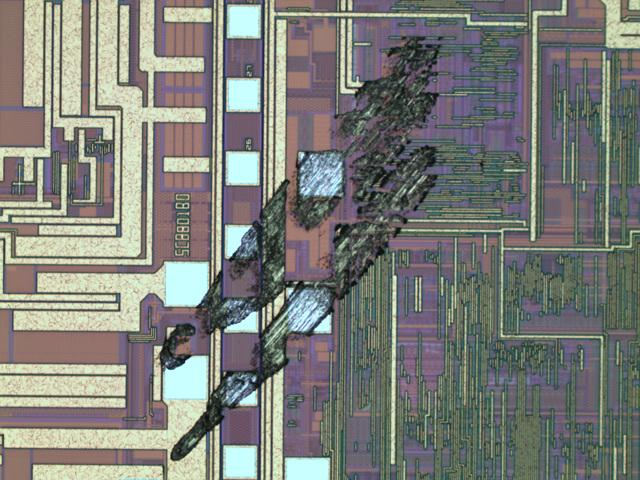SCRATCH: (152, 32, 449, 468)
